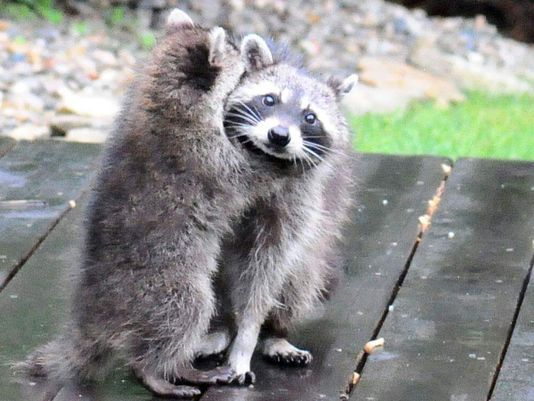raccoon: (224, 38, 366, 187)
